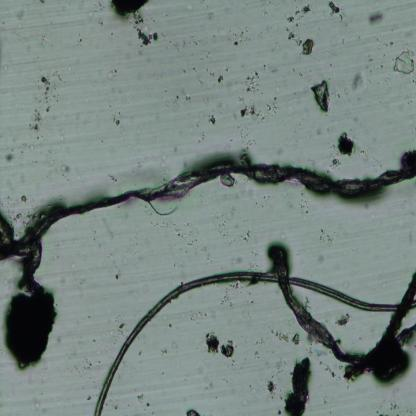Background material: (0, 260, 60, 373), (284, 355, 313, 416), (375, 346, 411, 382), (204, 329, 240, 363), (36, 69, 64, 112), (130, 12, 160, 47), (108, 0, 152, 20), (216, 207, 238, 246), (310, 79, 332, 116), (173, 220, 198, 248), (393, 46, 416, 76), (28, 109, 47, 143), (219, 280, 242, 306), (288, 3, 311, 27), (270, 328, 300, 345), (336, 130, 355, 156), (239, 125, 257, 148), (244, 71, 260, 95), (299, 185, 312, 214), (240, 100, 256, 121), (286, 27, 304, 45), (332, 311, 351, 328), (264, 378, 278, 399), (108, 102, 120, 126), (352, 73, 368, 91), (220, 171, 236, 189), (318, 224, 332, 244), (205, 5, 217, 27), (148, 220, 171, 231), (190, 310, 208, 324), (201, 244, 213, 264), (366, 12, 382, 27), (227, 252, 244, 266), (302, 38, 315, 56), (80, 356, 94, 372), (239, 26, 252, 43), (198, 383, 214, 396), (266, 96, 279, 112), (184, 405, 202, 416), (328, 1, 339, 19), (373, 34, 388, 47), (38, 31, 50, 47), (10, 210, 23, 224), (292, 120, 302, 138), (225, 81, 235, 98), (188, 34, 201, 47), (160, 150, 168, 171), (4, 151, 16, 165), (31, 395, 41, 411), (106, 172, 119, 184), (106, 68, 119, 80), (94, 0, 106, 12), (215, 99, 227, 111), (94, 17, 107, 28), (330, 155, 341, 168), (332, 85, 343, 98), (257, 110, 268, 123), (168, 39, 179, 51), (13, 8, 24, 20), (228, 28, 239, 39), (59, 164, 71, 174), (170, 95, 180, 107), (270, 62, 280, 74), (206, 113, 216, 125), (340, 4, 346, 23), (18, 194, 28, 204), (78, 275, 87, 286), (242, 231, 251, 242), (207, 68, 216, 79), (404, 94, 413, 104), (272, 85, 283, 93), (198, 132, 206, 143), (254, 338, 263, 346), (204, 49, 212, 58), (137, 393, 144, 403), (331, 37, 338, 47), (218, 74, 224, 85), (77, 32, 83, 43), (159, 348, 167, 356), (254, 351, 260, 361), (115, 269, 120, 281), (204, 96, 210, 106), (262, 8, 268, 18), (184, 95, 192, 102), (260, 63, 267, 71), (57, 336, 62, 347), (181, 38, 186, 48), (233, 40, 240, 47), (276, 408, 282, 416), (275, 43, 281, 51), (2, 65, 8, 72), (224, 66, 230, 73), (167, 322, 173, 329), (340, 38, 346, 44), (96, 349, 101, 356), (233, 112, 238, 119), (240, 96, 245, 103), (144, 286, 148, 294), (368, 54, 372, 62), (86, 395, 91, 401), (198, 80, 204, 85), (212, 33, 216, 40), (120, 323, 124, 330), (114, 403, 118, 410), (379, 64, 384, 69), (146, 402, 150, 408), (193, 66, 197, 72), (104, 346, 108, 351), (298, 72, 302, 77), (182, 69, 186, 74), (390, 41, 394, 46), (412, 80, 416, 85), (110, 330, 113, 336), (139, 350, 142, 356), (329, 62, 332, 67), (292, 68, 295, 73), (0, 43, 2, 50), (230, 139, 233, 142)
Cellulose filter fibre: (0, 150, 416, 266), (264, 238, 416, 382)
Microfibre: (92, 266, 416, 416)
